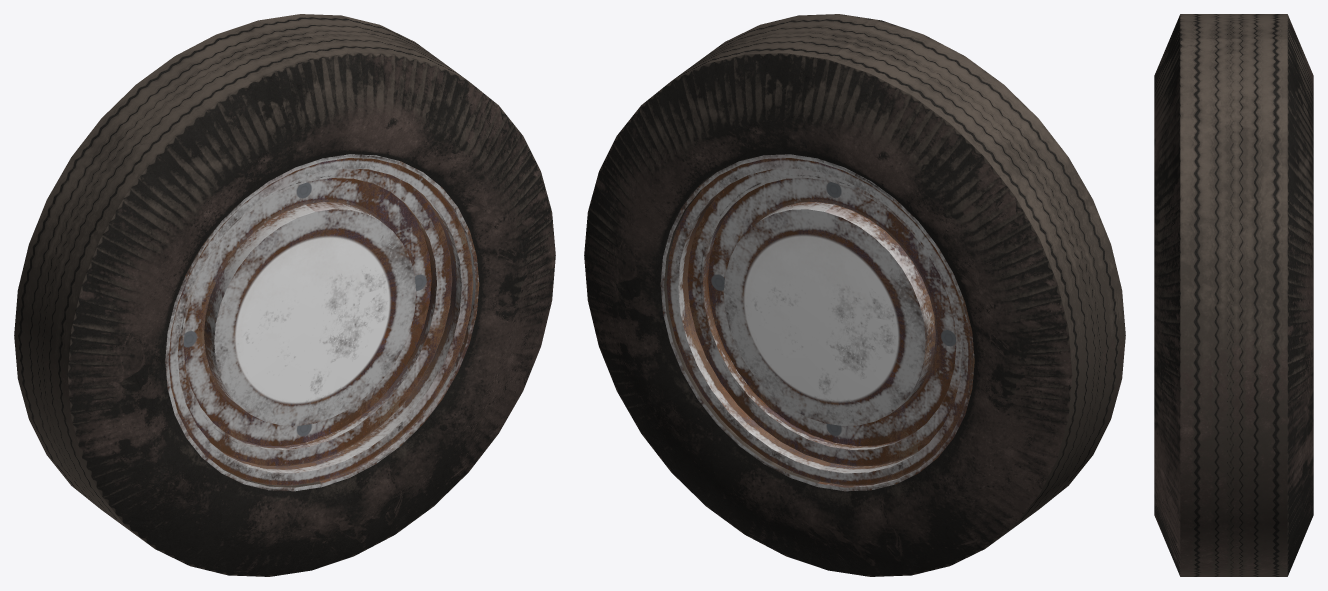
Rendered from wheel.glb.
The picture shows the model from 3 angles, left to right: view 1: azimuth 30°, elevation 25°; view 2: azimuth 150°, elevation 25°; view 3: azimuth 270°, elevation 25°; orthographic projection.
Visible parts, largest first — view 1: wheel_00; view 2: wheel_00; view 3: wheel_00.
Boxes of the visible parts, left/top/right/bottom form: wheel_00: left=14, top=14, right=555, bottom=576; wheel_00: left=584, top=14, right=1125, bottom=576; wheel_00: left=1154, top=14, right=1313, bottom=576.
Bounding box in the file's own units: 50.77 × 50.77 × 14.33.
Materials: 1 (1 with a texture image).
